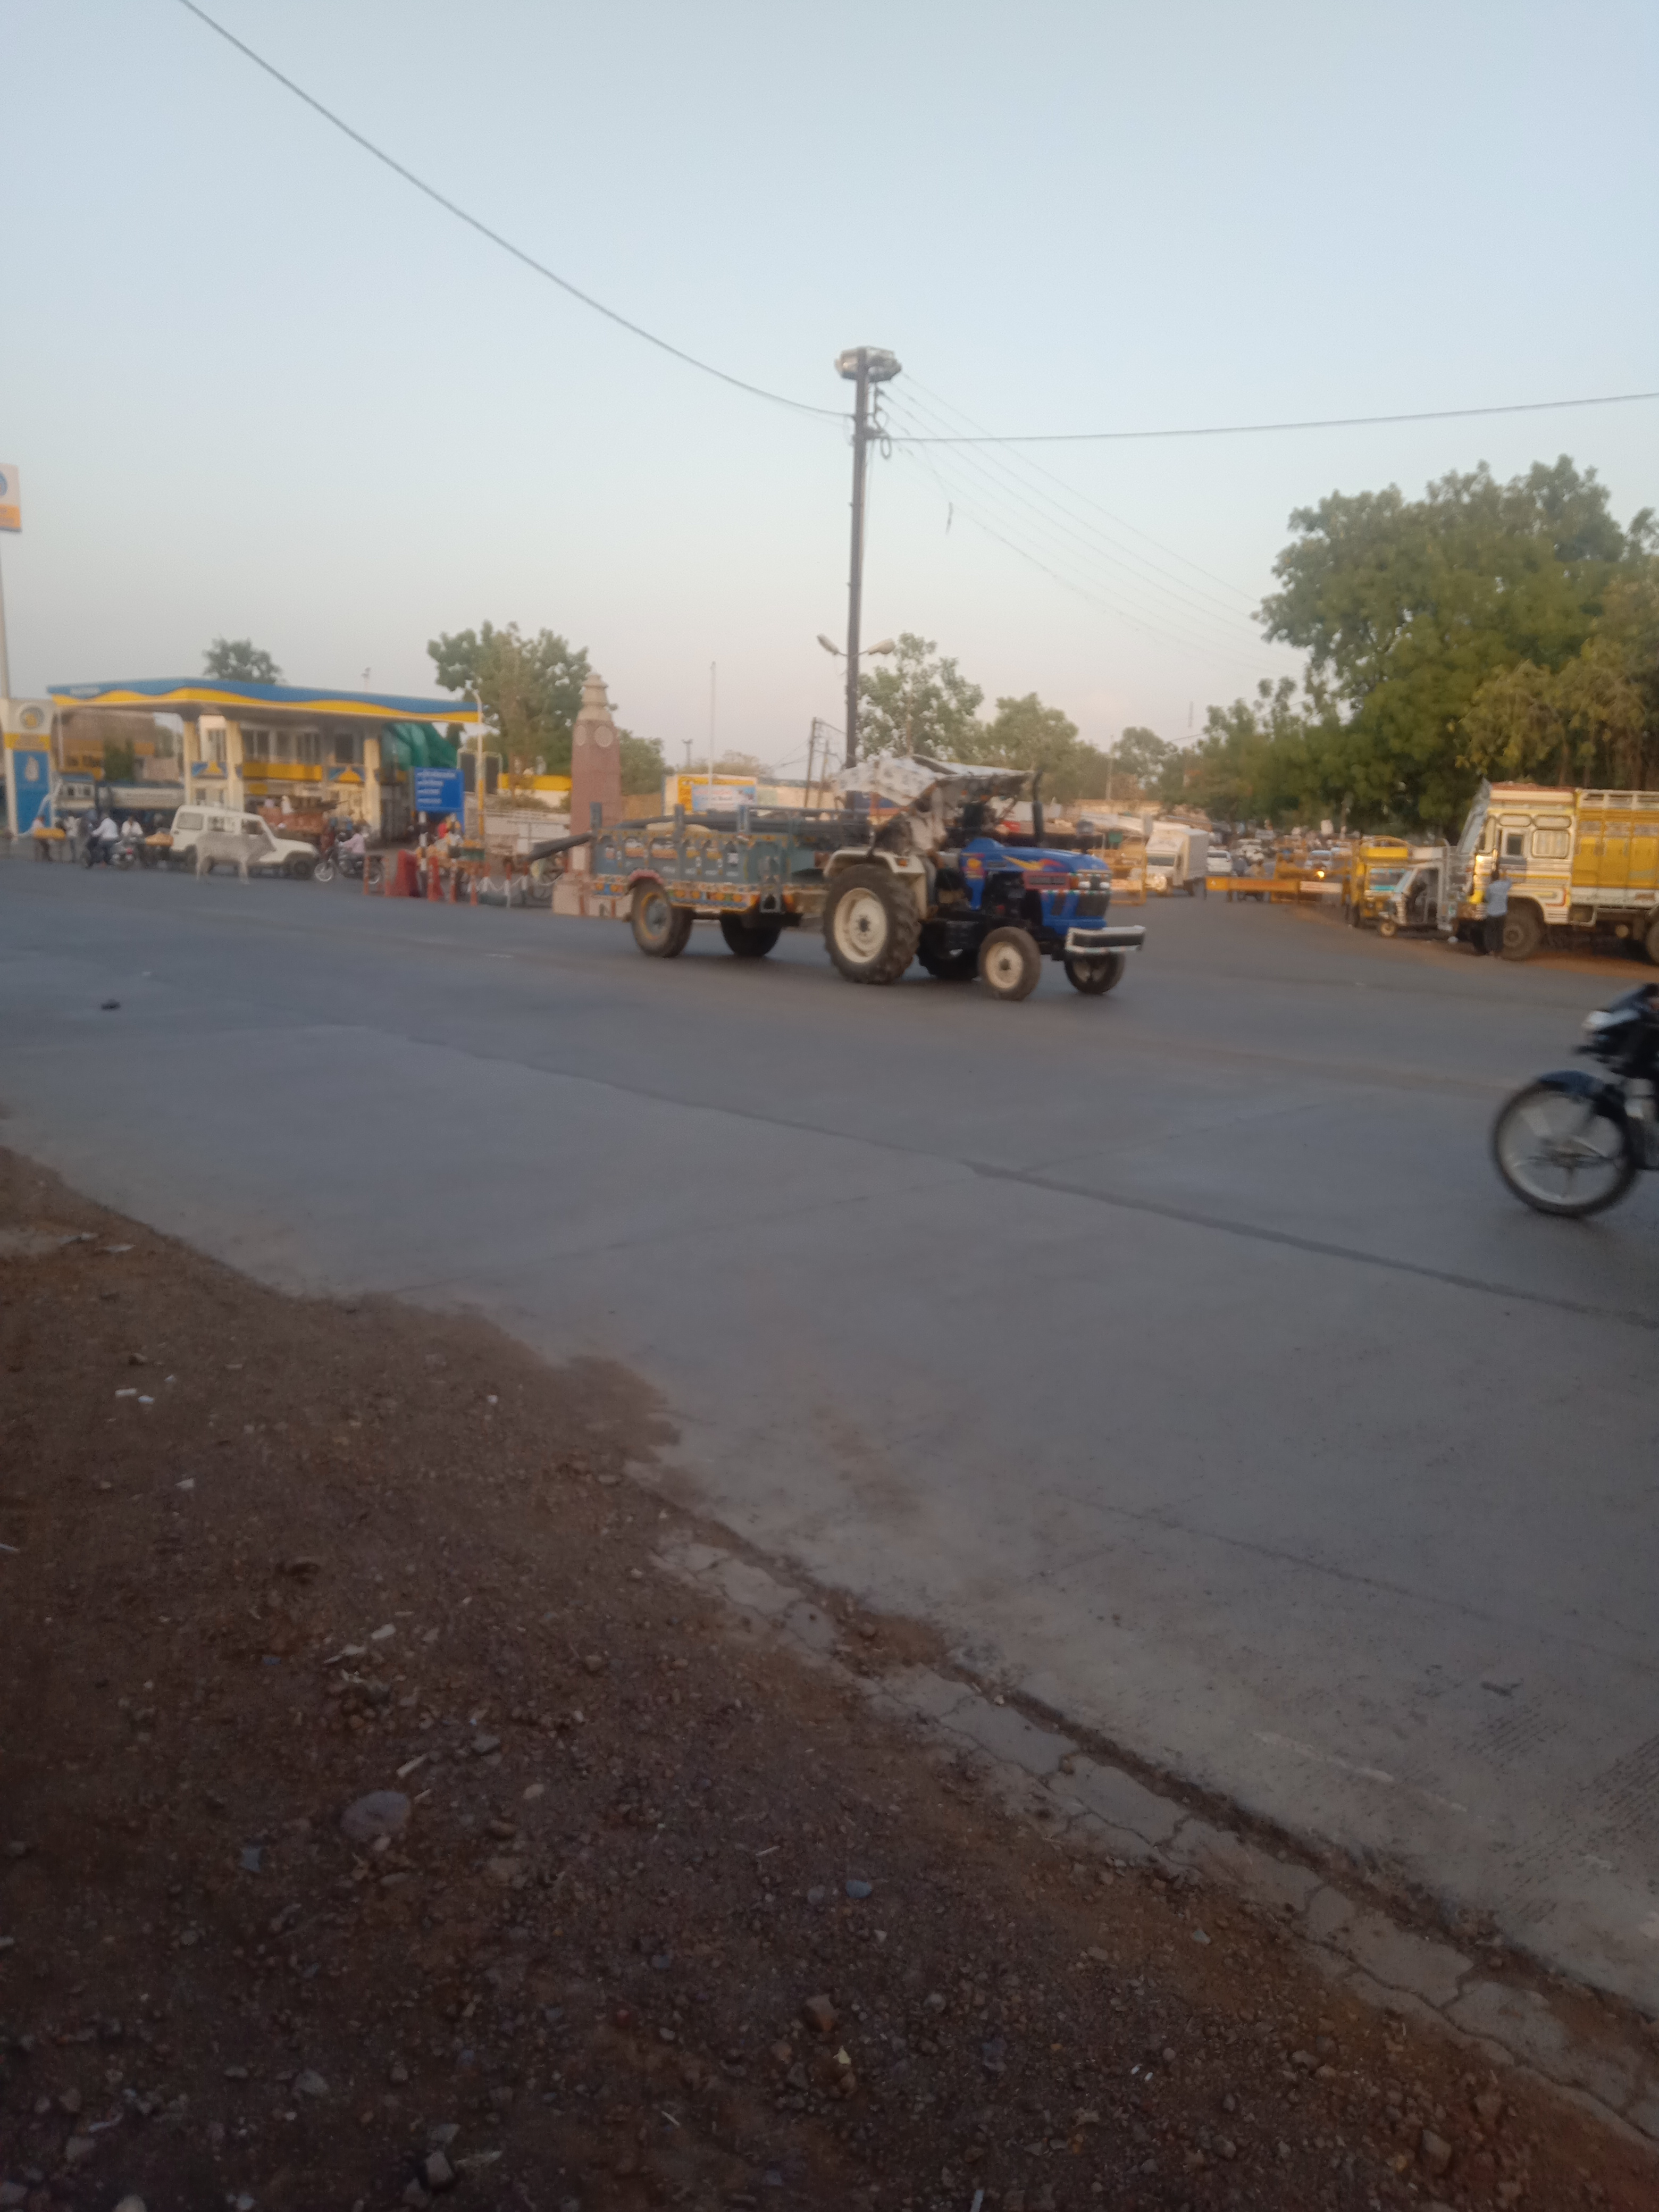tractor: (587, 749, 1148, 1003)
